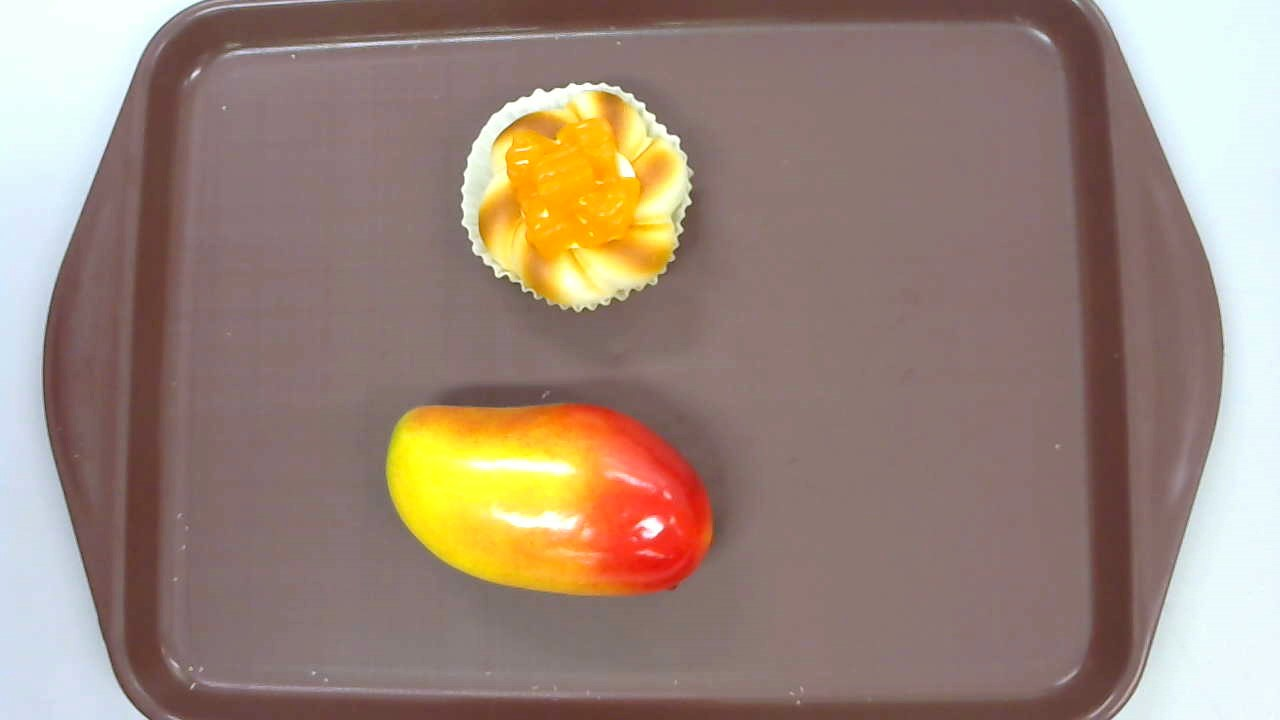mango tart: (460, 81, 696, 315)
red mango: (385, 403, 714, 597)
